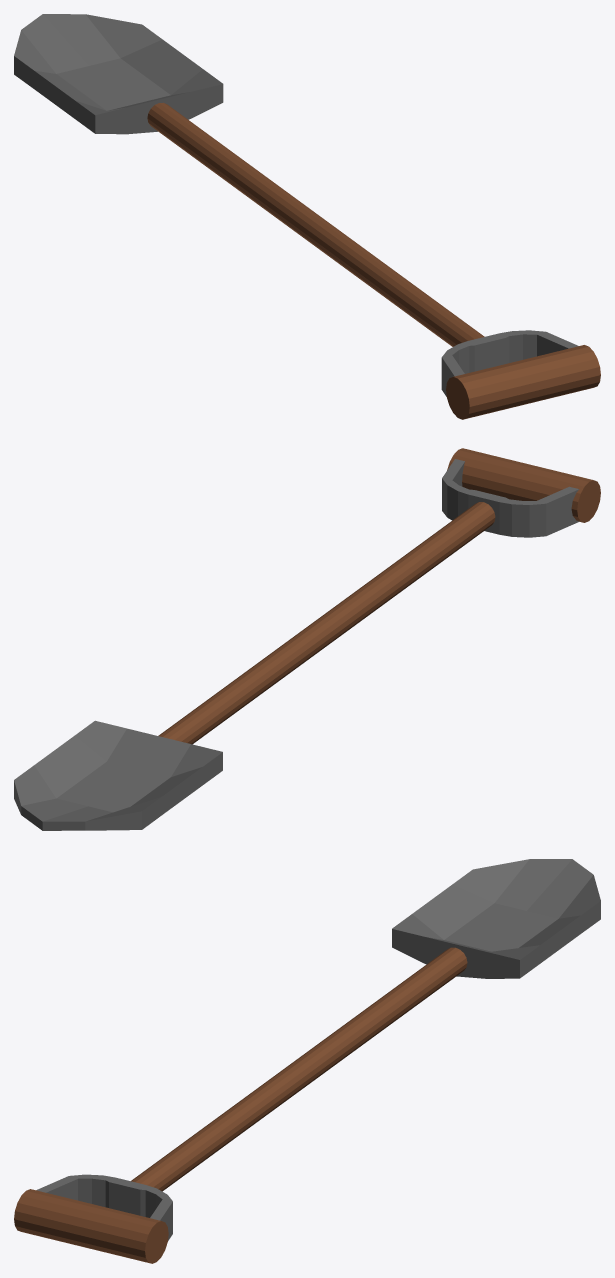
Rendered from Shovel.fbx.
3 views of the same model, one above another, from view 1: azimuth 30°, elevation 25°; view 2: azimuth 150°, elevation 25°; view 3: azimuth 330°, elevation 25° (orthographic).
Visible parts, largest first — view 1: Cylinder.019; view 2: Cylinder.019; view 3: Cylinder.019.
Part boxes in pixels (box(x1,y1,x2,y2)): Cylinder.019: box(14, 14, 600, 419); Cylinder.019: box(14, 448, 600, 830); Cylinder.019: box(14, 859, 600, 1263).
Size of the model in its own units: 69.77 by 20 by 454.
